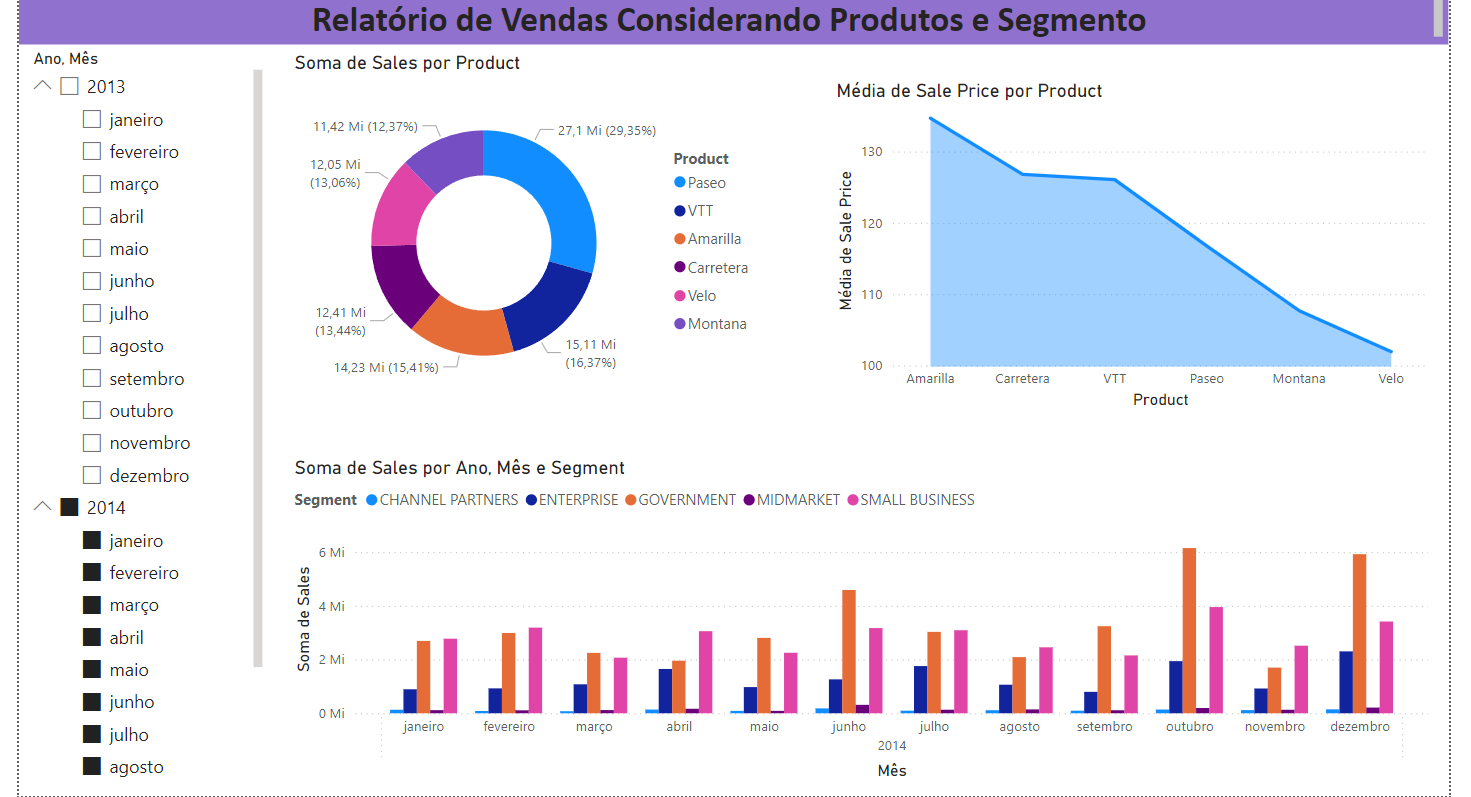

This screenshot's page, from the dashboard's own definition file:
{"tool":"powerbi","page":{"name":"Página 1","canvas":[1280,720],"ordinal":0},"visuals":[{"type":"donutChart","fields":{"Category":["financials.Product"],"Y":["Sum(financials. Sales)"]},"box":[242.2,52.5,426,324.9],"z":0},{"type":"areaChart","fields":{"Y":["Avg(financials.Sale Price)"],"Category":["financials.Product"]},"box":[727.5,77.8,539.8,299.6],"z":1000},{"type":"clusteredColumnChart","fields":{"Category":["financials.Date.Variation.Hierarquia de datas.Ano","financials.Date.Variation.Hierarquia de datas.Mês"],"Y":["Sum(financials. Sales)"],"Series":["financials.Segment"]},"box":[242.2,415.3,1025.2,294.7],"z":2000},{"type":"slicer","fields":{"Values":["financials.Date.Variation.Hierarquia de datas.Ano","financials.Date.Variation.Hierarquia de datas.Mês"]},"box":[0,46.7,222.7,663.3],"z":3000},{"type":"textbox","box":[0,0,1280,46.7],"z":4000}]}

Visuals, with their boxes on the page's 1280x720 design canvas (x1, y1, x2, y2). These are canvas units, not pixel positions in the 1471x797 screenshot, which may show the page scaled, cropped or inside an application window:
donutChart - financials.Product x Sum(financials. Sales): detection(242, 52, 668, 377)
areaChart - Avg(financials.Sale Price) x financials.Product: detection(728, 78, 1267, 377)
clusteredColumnChart - financials.Date.Variation.Hierarquia de datas.Ano x financials.Date.Variation.Hierarquia de datas.Mês: detection(242, 415, 1267, 710)
slicer - financials.Date.Variation.Hierarquia de datas.Ano x financials.Date.Variation.Hierarquia de datas.Mês: detection(0, 47, 223, 710)
textbox: detection(0, 0, 1280, 47)
